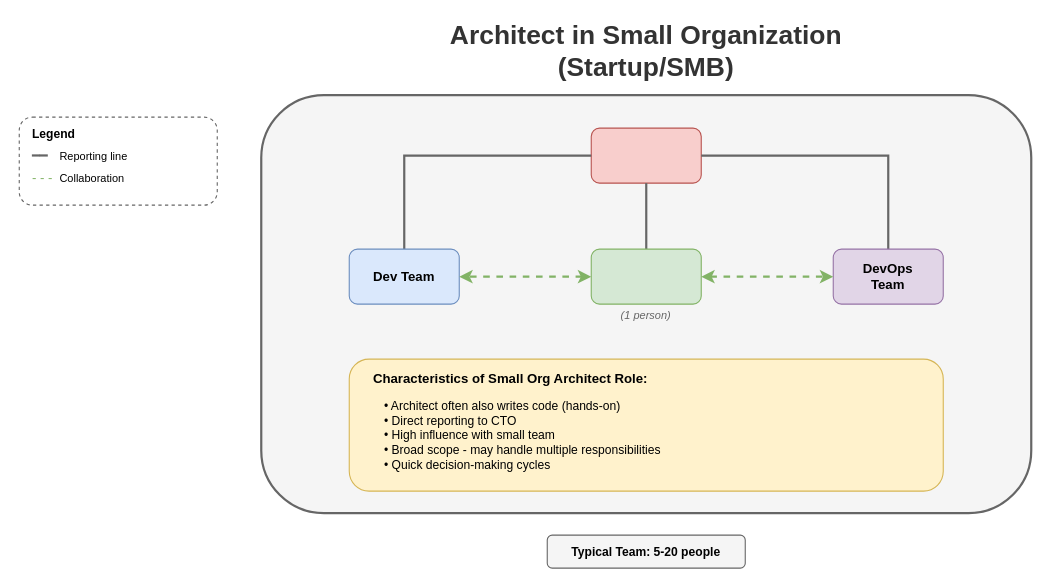
This 1052x587 diagram has some shape labels left out. The centre of each missing label's shape, as x and y in pixels:
"CTO" goes at [645,155].
"Software Architect" goes at [645,276].
